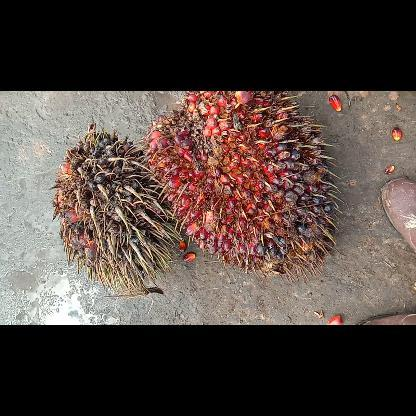TBS abnormal: (51, 125, 182, 297)
TBS masak: (140, 90, 340, 278)
